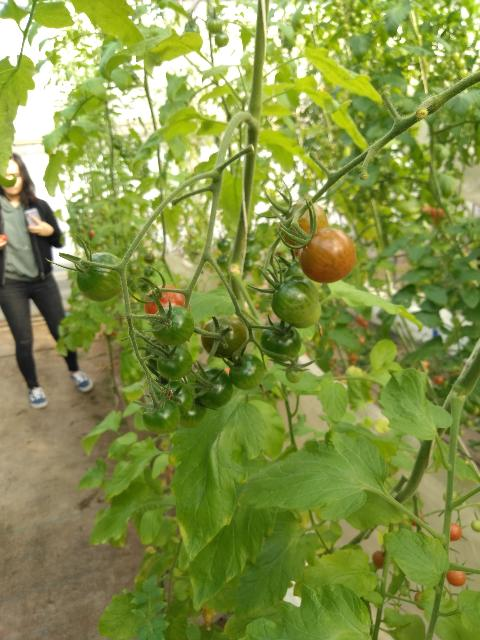l_fully_ripened: (144, 285, 191, 323)
l_green: (76, 252, 127, 302), (272, 276, 318, 324), (200, 315, 247, 358), (259, 321, 302, 362), (150, 305, 194, 345), (194, 367, 234, 409), (283, 257, 323, 292), (143, 399, 181, 434), (230, 353, 264, 391), (157, 345, 193, 380), (158, 381, 194, 415), (179, 396, 209, 428), (290, 301, 321, 329), (145, 333, 168, 370), (286, 366, 302, 383)
l_half_ripened: (299, 228, 356, 284), (278, 199, 329, 249)
